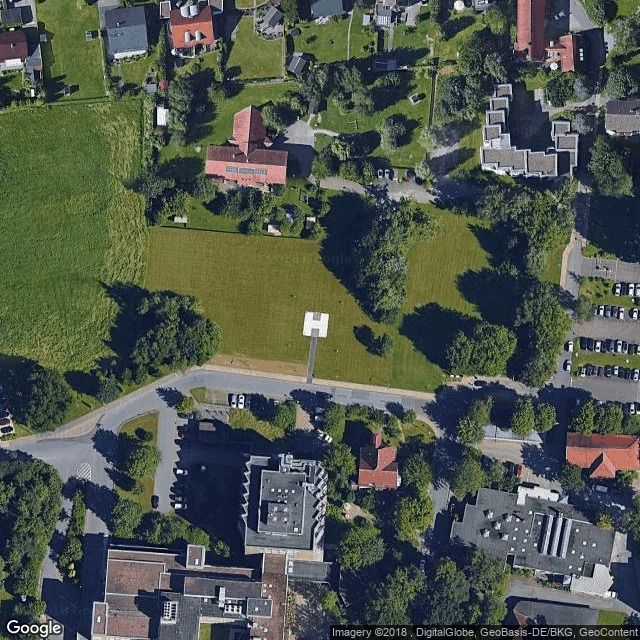heliport: (300, 307, 330, 341)
